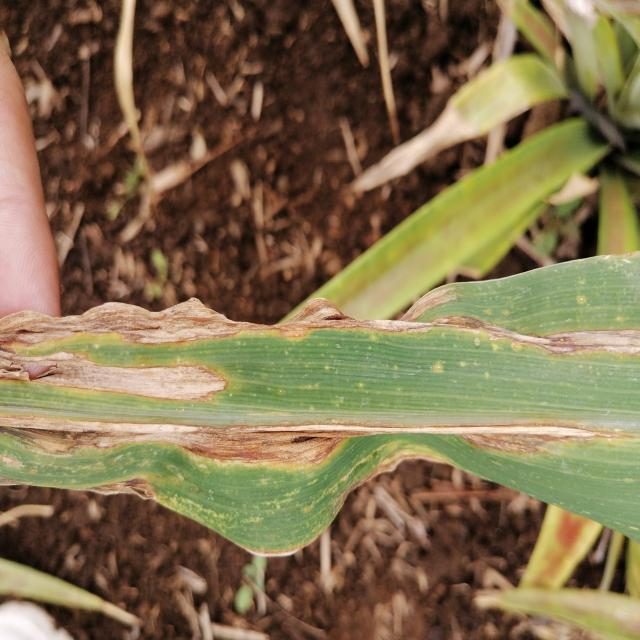Corn_Leaf_Blight: (0, 284, 640, 546)
